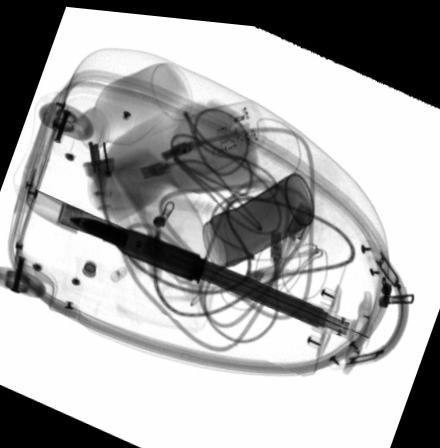Bullet: (66, 213, 206, 279)
